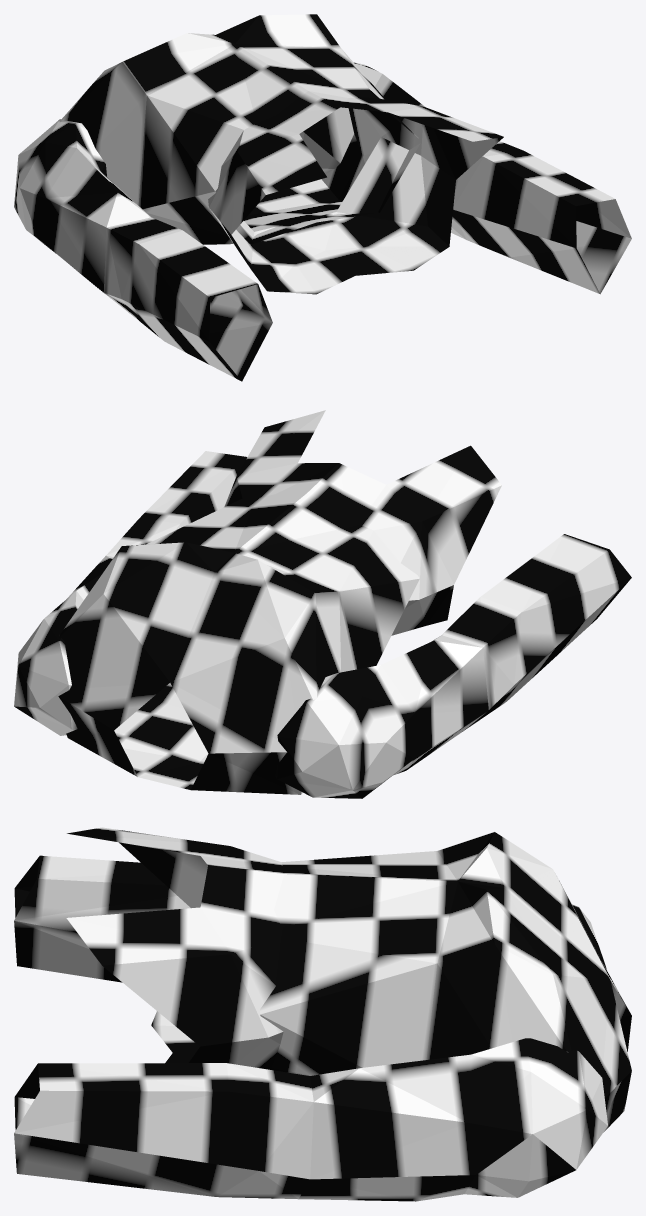
The model's file is initarsh17.dae.
The picture shows the model from 3 angles, top to bottom: view 1: azimuth 30°, elevation 25°; view 2: azimuth 150°, elevation 25°; view 3: azimuth 270°, elevation 25°; orthographic projection. The views are drawn at different scales.
Visible parts, largest first — view 1: armor; view 2: armor; view 3: armor.
Boxes of the visible parts, box(x1,y1,x2,y2) form: armor: box(14, 14, 631, 381); armor: box(14, 410, 631, 798); armor: box(14, 827, 631, 1201).
Bounding box in the file's own units: 1.59 × 1.69 × 0.7427.
1 material, 1 textured.
